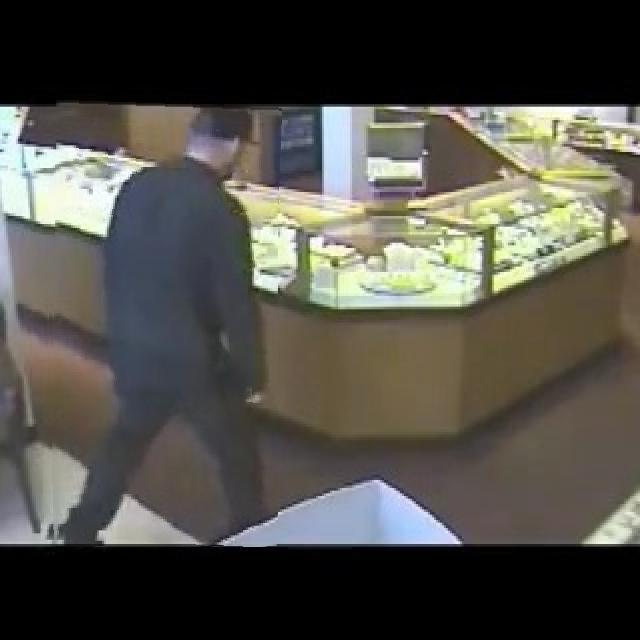Normal: (44, 102, 278, 546)
